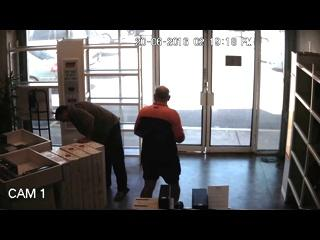Normal: (54, 101, 130, 202), (134, 85, 186, 208)
